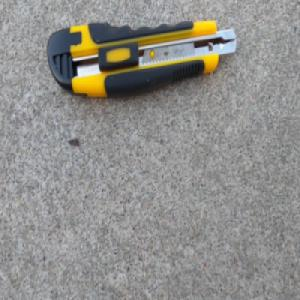Cutter: (45, 17, 236, 101)
